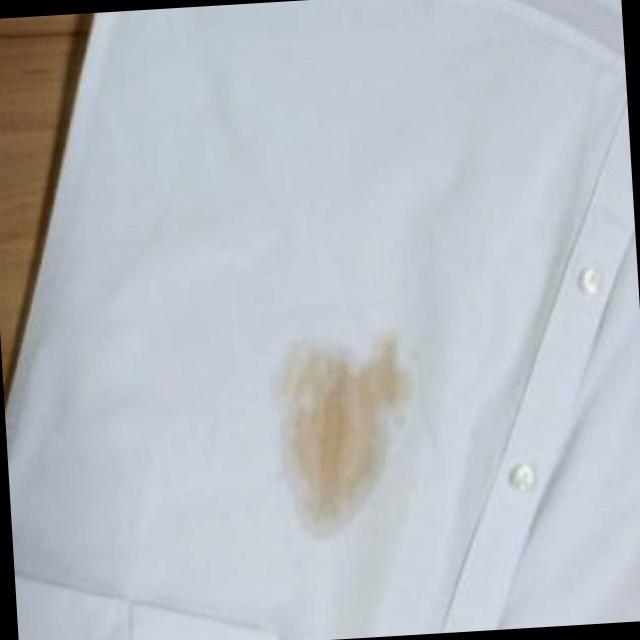coffee: (272, 332, 417, 540)
